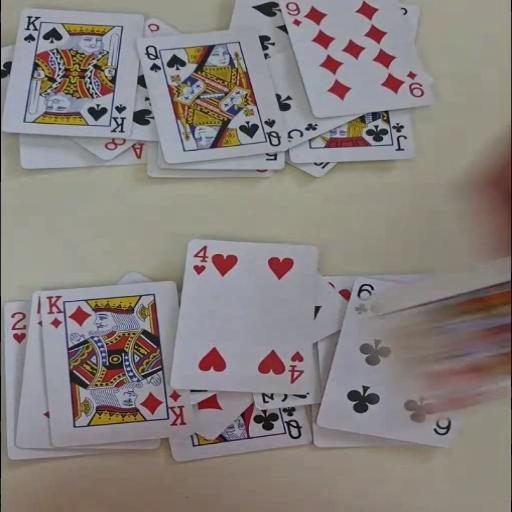2: (8, 310, 29, 344)
4: (286, 349, 306, 385), (190, 244, 210, 276)
6: (430, 412, 454, 436)
8: (102, 136, 128, 151)
9: (403, 68, 426, 98), (283, 0, 304, 28)
J: (390, 121, 408, 151)
K: (44, 293, 65, 330), (20, 14, 42, 44), (108, 102, 128, 134)
Q: (262, 116, 284, 148), (142, 43, 162, 74)
